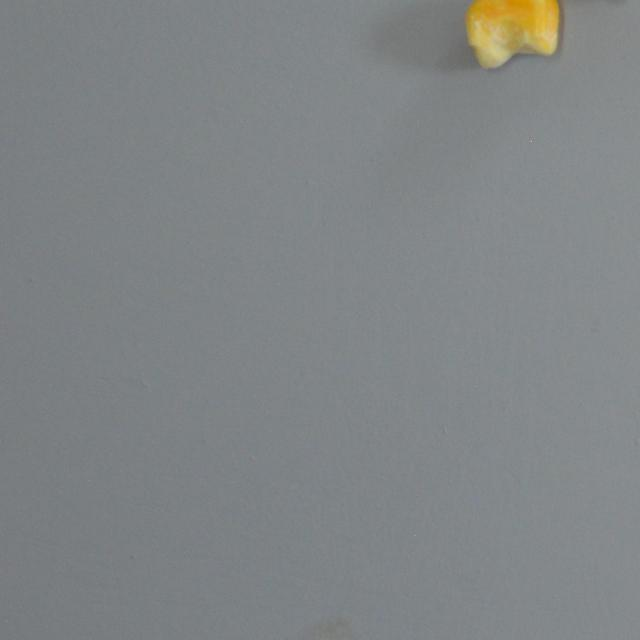pelicula: (462, 0, 558, 70)
